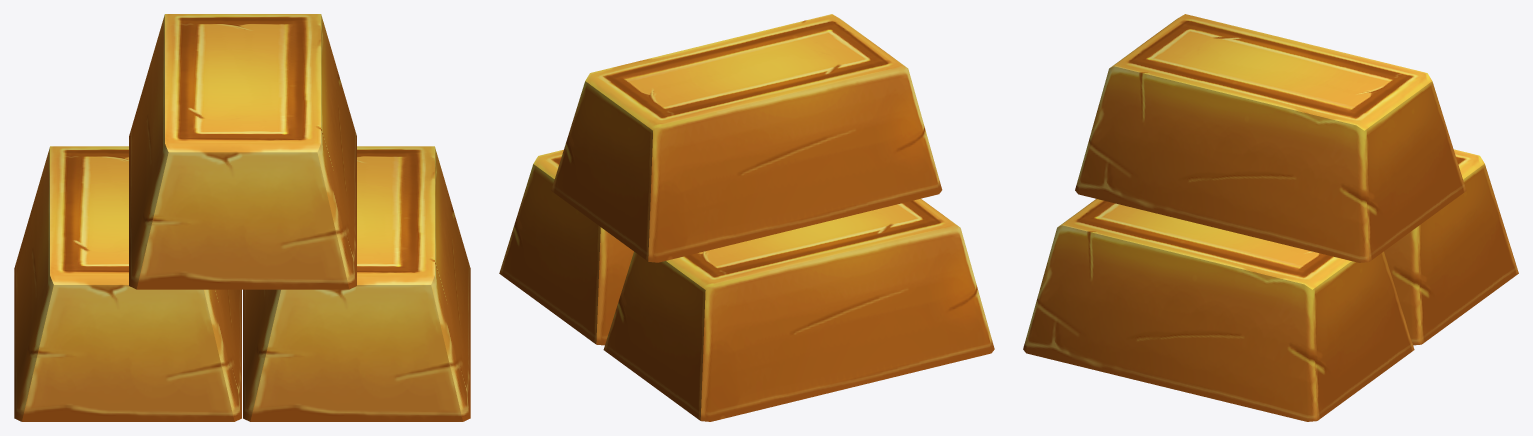
Rendered from 75_gold bar.FBX.
3 renders of one model, left to right at view 1: azimuth 30°, elevation 25°; view 2: azimuth 150°, elevation 25°; view 3: azimuth 270°, elevation 25°, orthographic. The views are drawn at different scales.
Visible parts, largest first — view 1: Object052; view 2: Object052; view 3: Object052.
Boxes of the visible parts, x1=… form: Object052: x1=14, y1=14, x2=470, y2=421; Object052: x1=499, y1=14, x2=994, y2=421; Object052: x1=1023, y1=14, x2=1518, y2=421.
Size of the model in its own units: 62.57 by 31.91 by 59.29.
